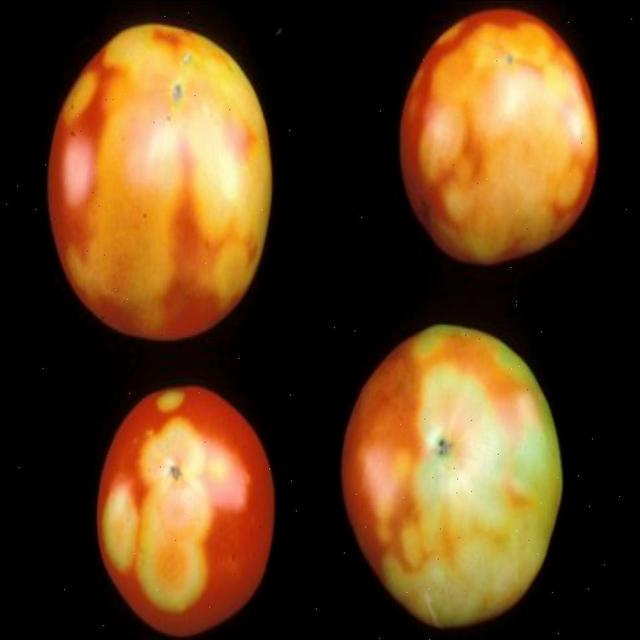Spotted wilt Virus Fruit: (155, 152, 380, 407)
